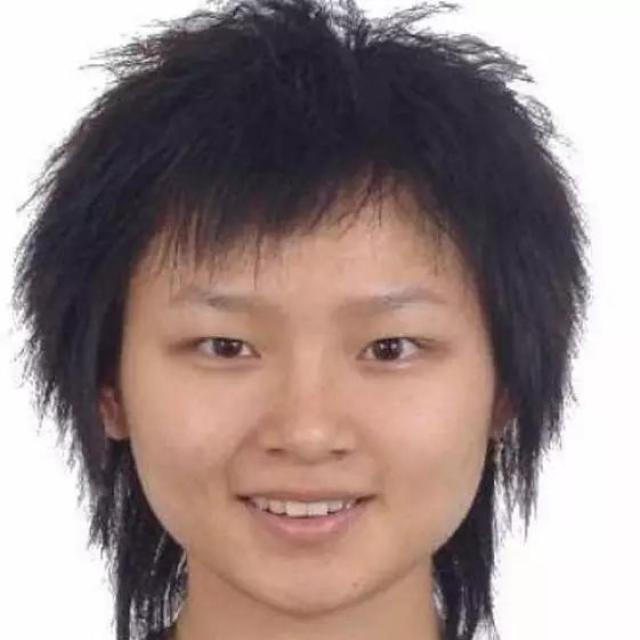Open: (358, 328, 443, 373), (186, 330, 261, 362)
